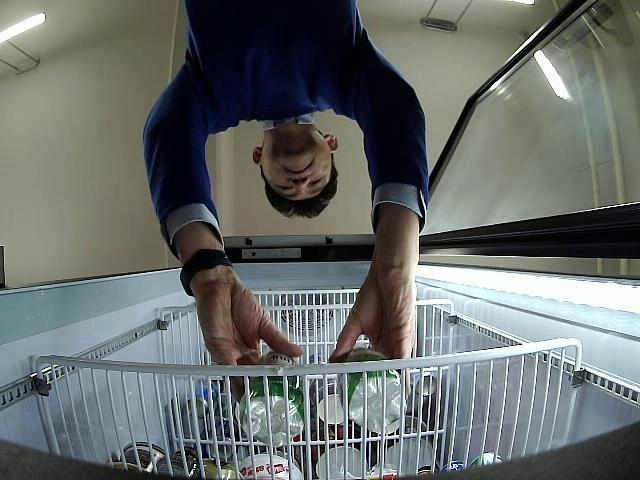18_trevi: (236, 351, 302, 445), (338, 348, 406, 434)
